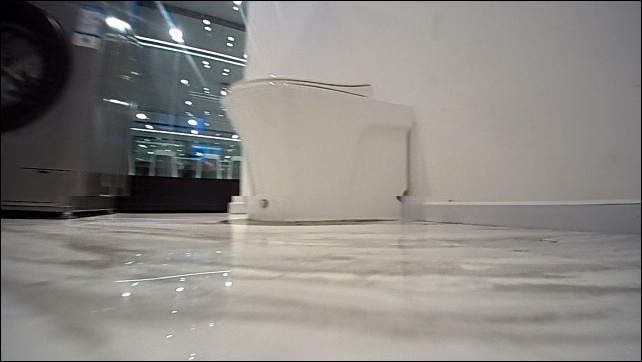toilet: (224, 75, 420, 226)
washing_machine1: (1, 4, 144, 217)
